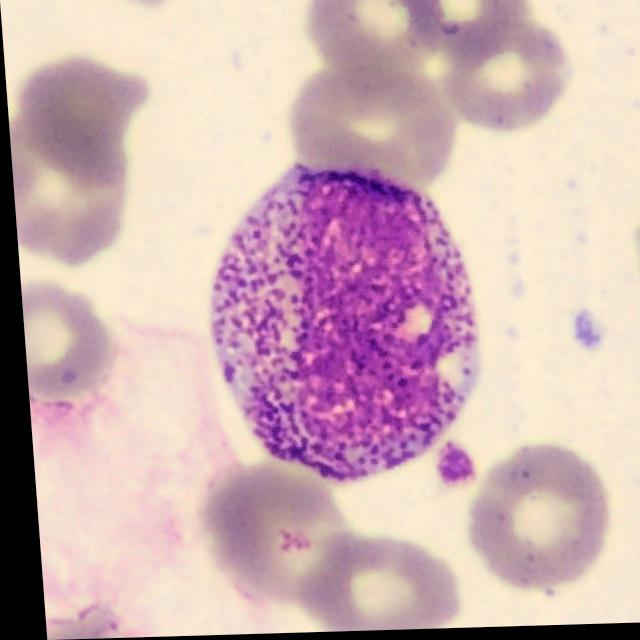Promielocito: (204, 168, 473, 484)
